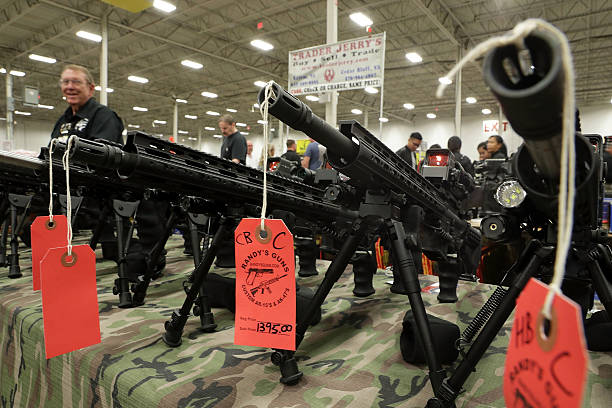rifle: (252, 74, 484, 403), (51, 119, 346, 361), (461, 12, 595, 408)
